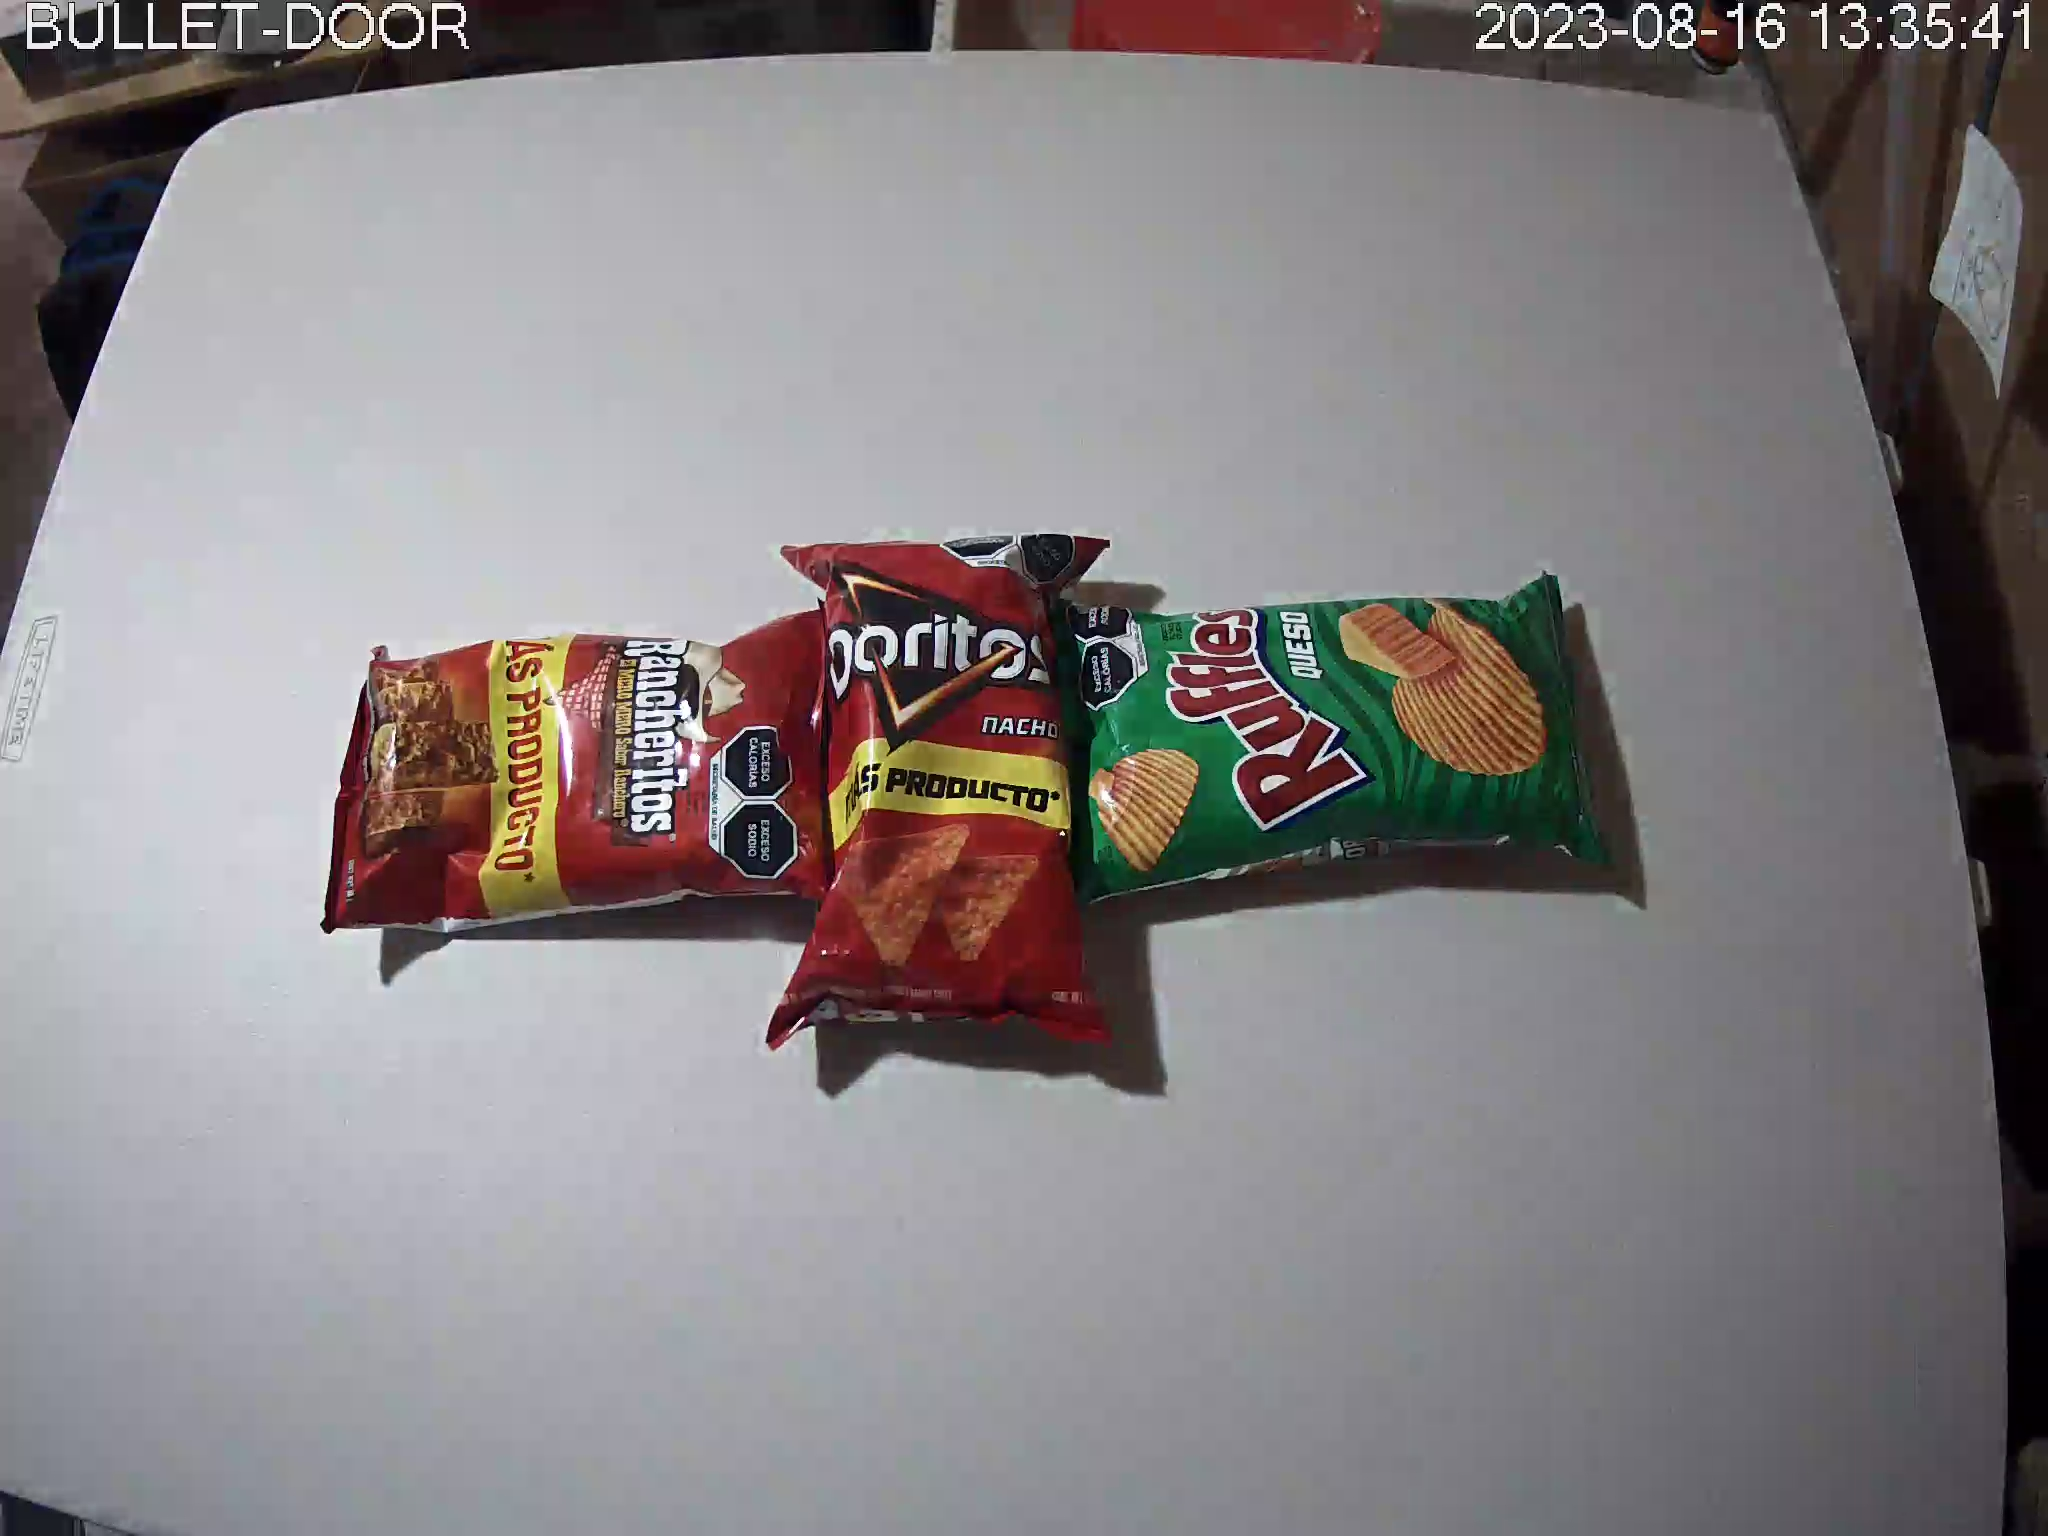DoritosN_61_F: (768, 531, 1122, 1054)
Rancheritos_58_F: (319, 599, 834, 933)
RufflesQ_48_F: (1042, 566, 1614, 913)
